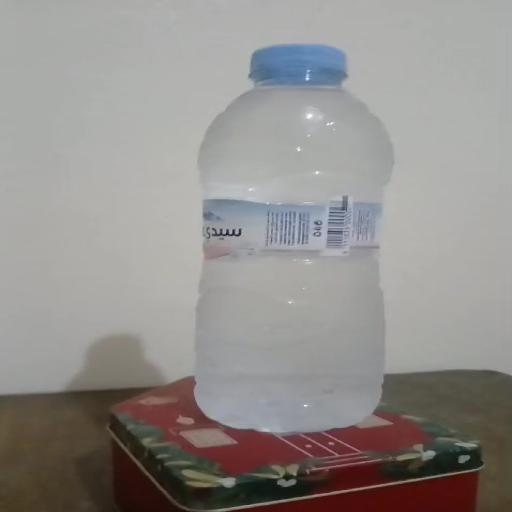bouteille conformite: (194, 41, 393, 434)
